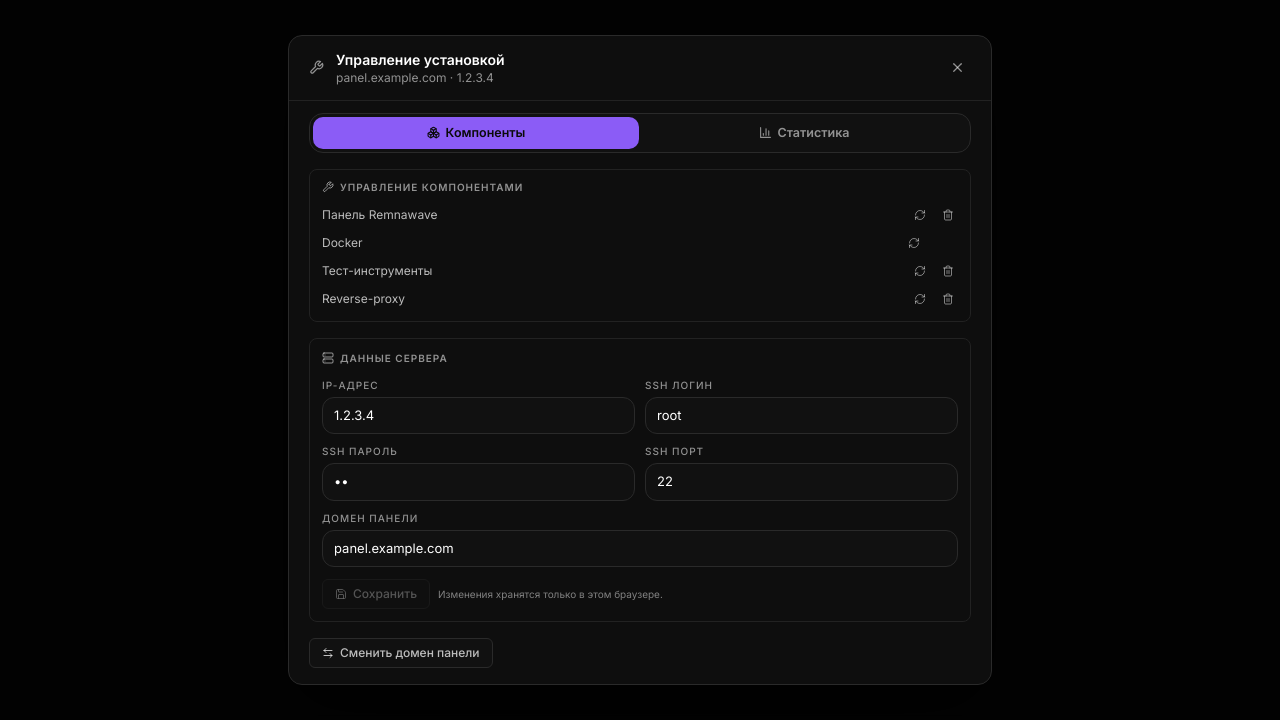
PanelManageModal (render) › switching to Статистика fetches /api/stats/node and renders traffic/security
The width and height of the screenshot is (1280, 720).
Click the button "Статистика": [804, 133] box [641, 117, 967, 149]
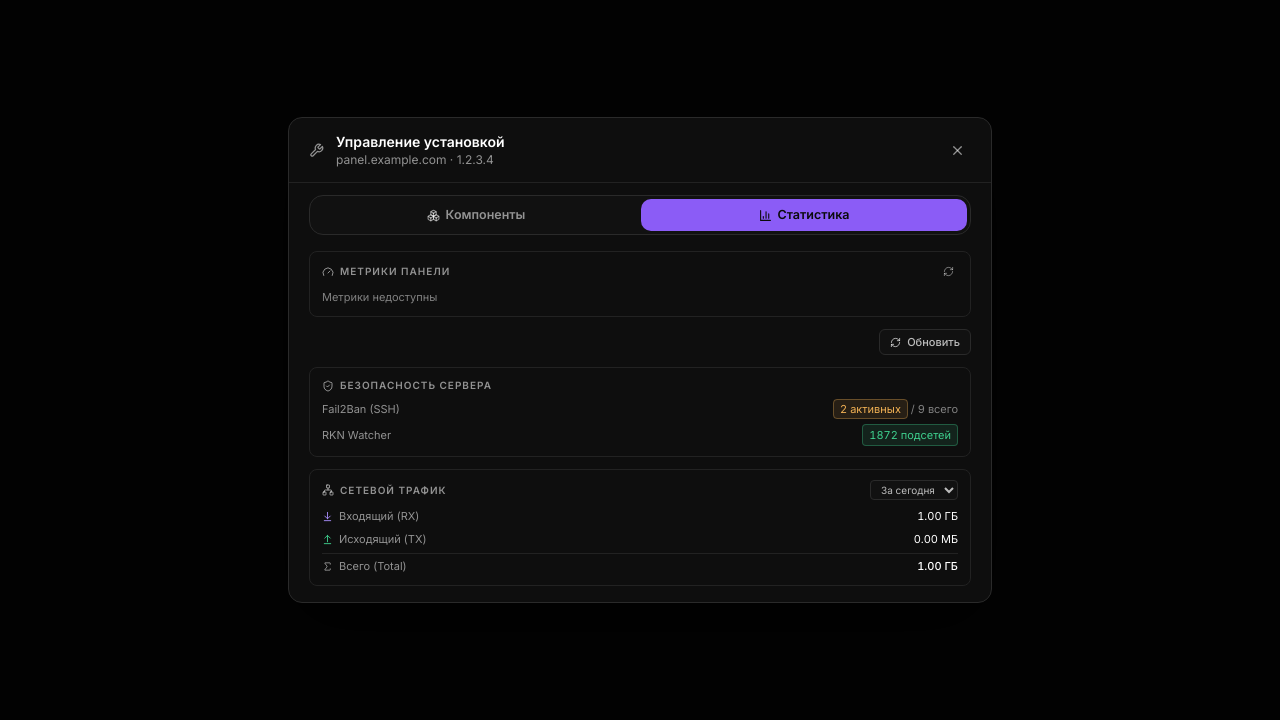
Check: the text "Сетевой трафик" is shown, box [340, 483, 447, 498]
Check: the text "Безопасность сервера" is shown, box [340, 378, 492, 393]
